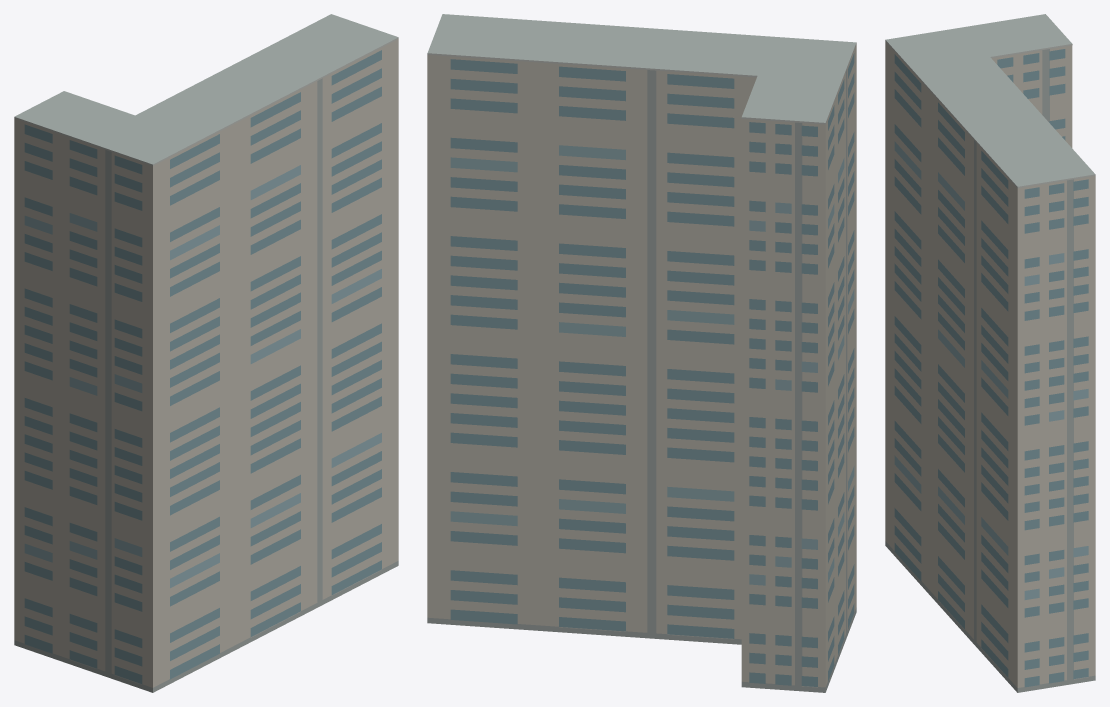
File: residential-63c2d36a-b64e-48c2-bd23-2943cd1d00f2.glb
3 views of the same model, side by side, from view 1: azimuth 30°, elevation 25°; view 2: azimuth 150°, elevation 25°; view 3: azimuth 270°, elevation 25° (orthographic). The views are drawn at different scales.
Visible parts, largest first — view 1: residential-63c2d36a-b64e-48c2-bd23-2943cd1d00f2.tmp; view 2: residential-63c2d36a-b64e-48c2-bd23-2943cd1d00f2.tmp; view 3: residential-63c2d36a-b64e-48c2-bd23-2943cd1d00f2.tmp.
Boxes of the visible parts, box(x1,y1,x2,y2) form: residential-63c2d36a-b64e-48c2-bd23-2943cd1d00f2.tmp: box(14, 14, 398, 692); residential-63c2d36a-b64e-48c2-bd23-2943cd1d00f2.tmp: box(427, 14, 856, 692); residential-63c2d36a-b64e-48c2-bd23-2943cd1d00f2.tmp: box(885, 14, 1095, 692).
Bounding box in the file's own units: 60.07 × 82 × 30.86.
